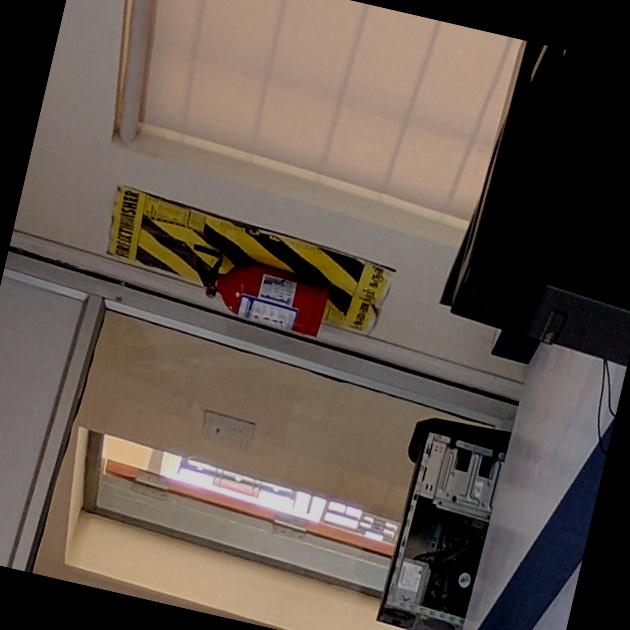fireestinguisher: (77, 140, 460, 383)
windowscreen: (90, 0, 520, 213)
